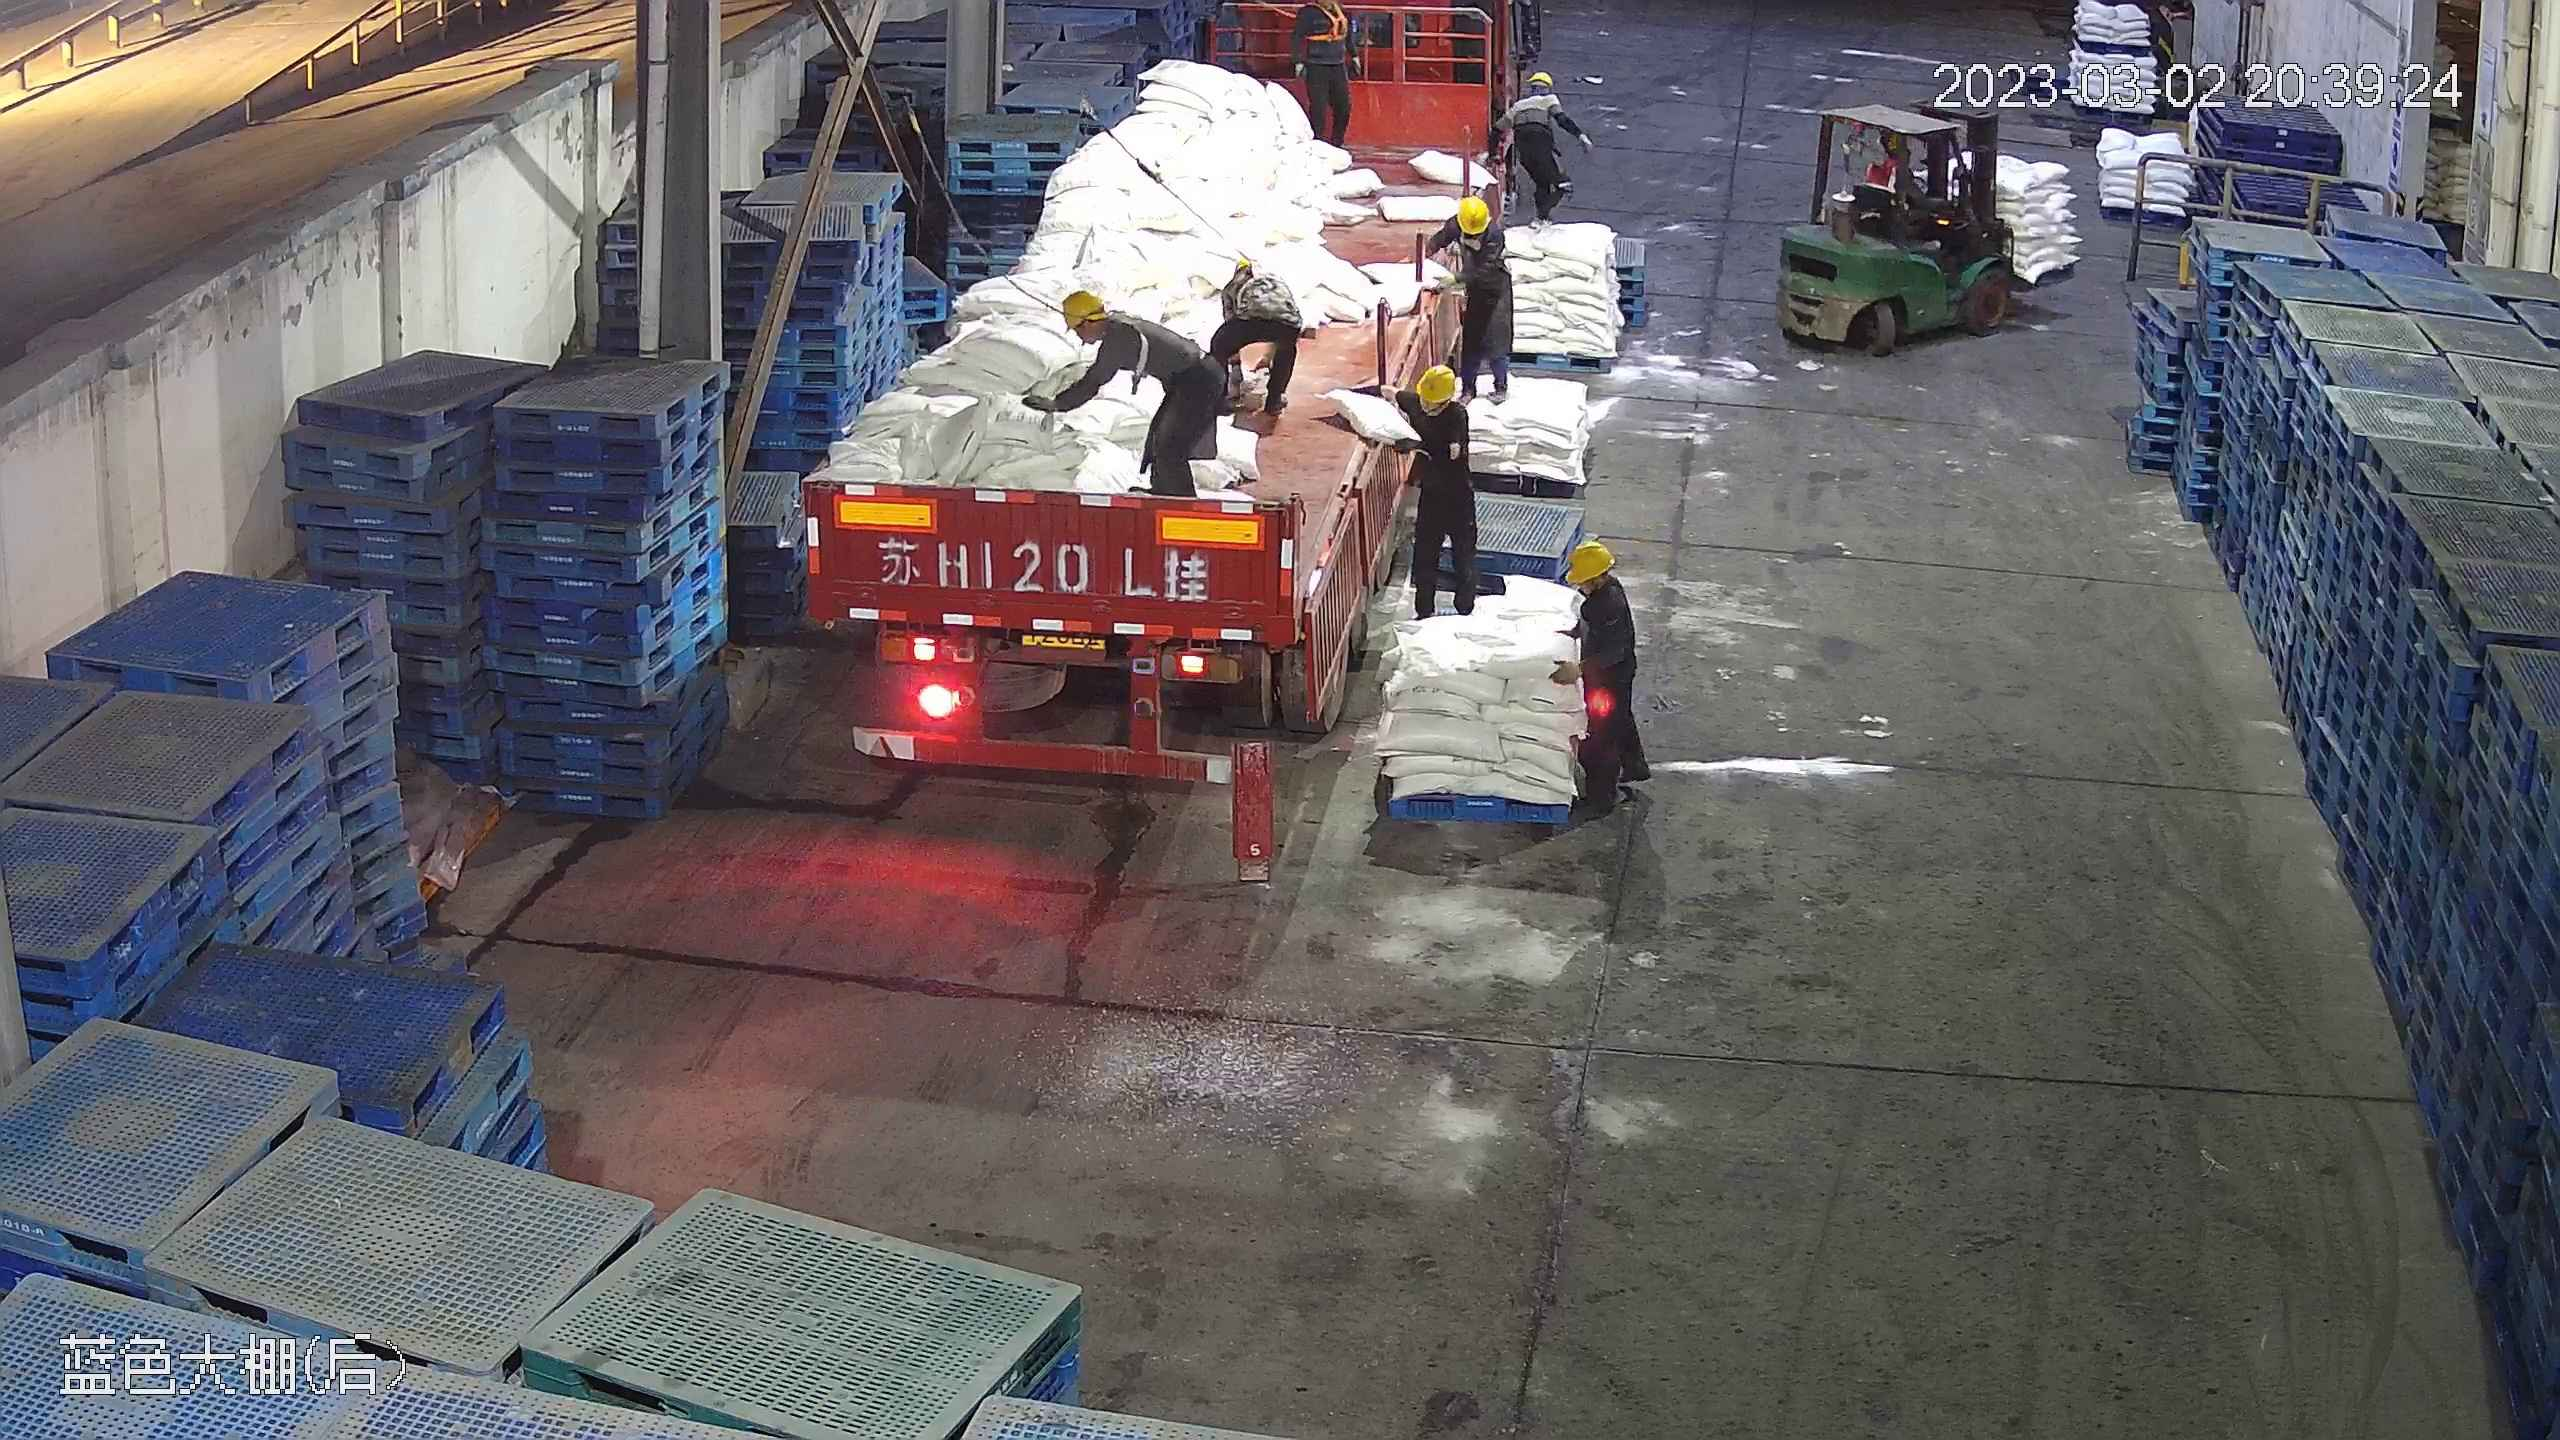belt: (1118, 307, 1190, 371), (1218, 252, 1287, 309), (1298, 3, 1347, 46), (1455, 228, 1488, 252)
head: (1402, 363, 1472, 473), (1060, 285, 1147, 368), (1399, 363, 1470, 452), (1566, 540, 1636, 632), (1437, 195, 1507, 263), (1218, 252, 1288, 313), (1510, 69, 1561, 119), (1875, 127, 1917, 178)
helmet: (1566, 539, 1616, 583), (1057, 287, 1106, 329), (1411, 361, 1458, 404), (1455, 193, 1490, 233), (1528, 68, 1554, 89), (1881, 128, 1906, 150)
people: (1018, 286, 1241, 501), (1393, 360, 1477, 625), (1564, 540, 1647, 798), (1416, 192, 1515, 403), (1206, 249, 1302, 434), (1503, 67, 1582, 225), (1285, 1, 1356, 155), (1876, 126, 1950, 241)
truck: (803, 5, 1500, 801)
